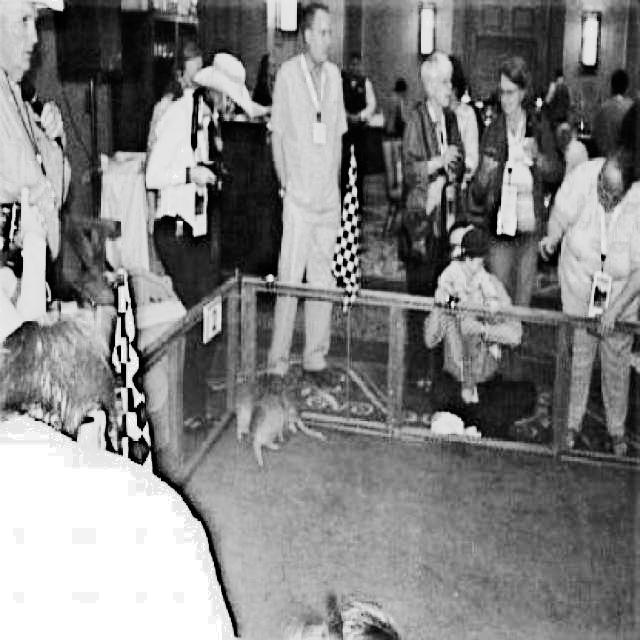Person: (145, 51, 244, 439), (261, 0, 352, 386), (537, 142, 640, 456), (395, 49, 466, 397), (470, 59, 565, 318), (0, 0, 75, 260)
